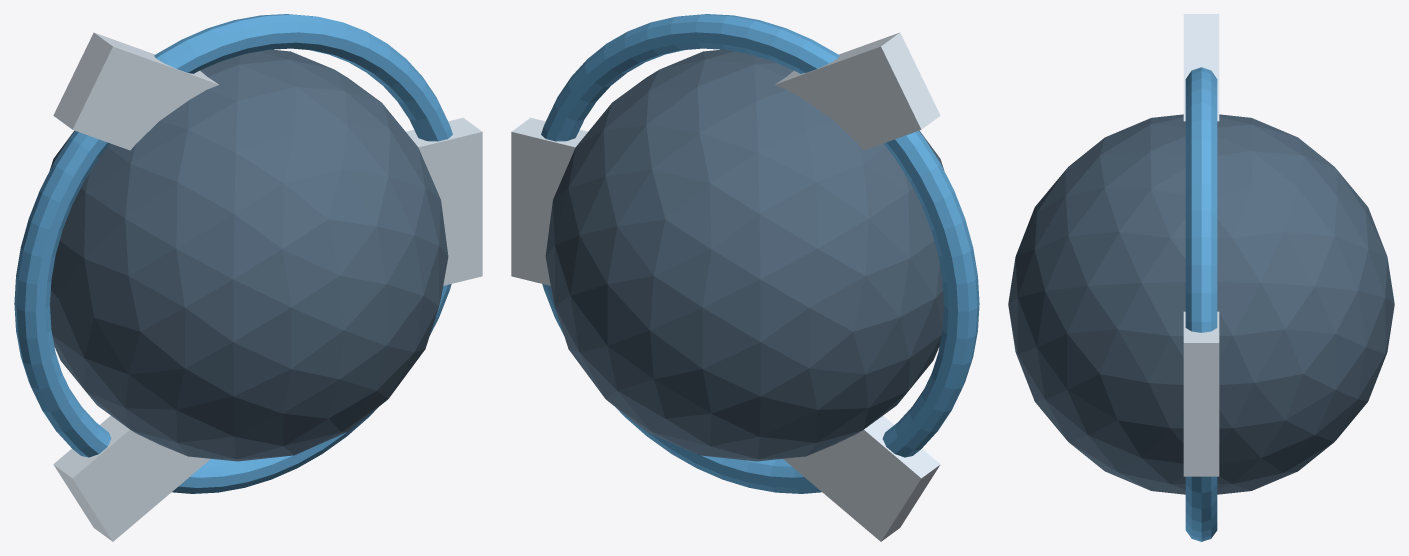
File: vsh-0.glb
3 renders of one model, left to right at view 1: azimuth 30°, elevation 25°; view 2: azimuth 150°, elevation 25°; view 3: azimuth 270°, elevation 25°, orthographic. The views are drawn at different scales.
Visible parts, largest first — view 1: Core0, HullRing8, Armor3, Armor4, Armor2, Armor7, Armor5, Armor6; view 2: Core0, HullRing8, Armor3, Armor4, Armor2, Armor7, Armor6, Armor5; view 3: Core0, HullRing8, Armor2, Armor3.
Boxes of the visible parts, x1,y1,x2,y2 form: Core0: (49,49,448,461); HullRing8: (14,14,452,493); Armor3: (53,32,218,150); Armor4: (53,416,210,541); Armor2: (406,117,482,285); Armor7: (74,433,197,540); Armor5: (425,132,482,284); Armor6: (74,49,216,149); Core0: (545,49,944,461); HullRing8: (541,14,979,493); Armor3: (775,32,940,150); Armor4: (783,416,940,541); Armor2: (511,117,587,285); Armor7: (784,431,920,539); Armor6: (777,46,920,148); Armor5: (511,132,571,285); Core0: (1008,114,1394,494); HullRing8: (1185,67,1217,541); Armor2: (1183,311,1219,476); Armor3: (1183,14,1219,121).
Bounding box in the file's own units: 1.92 × 1.99 × 1.52.
